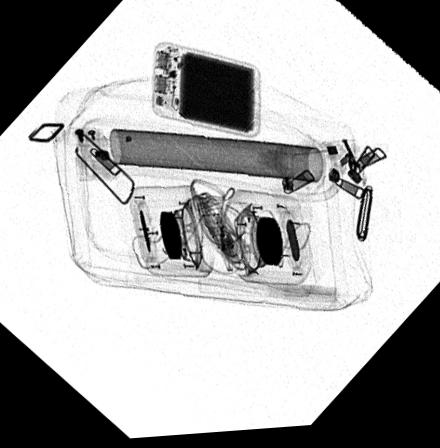Powerbank: (149, 43, 261, 143)
